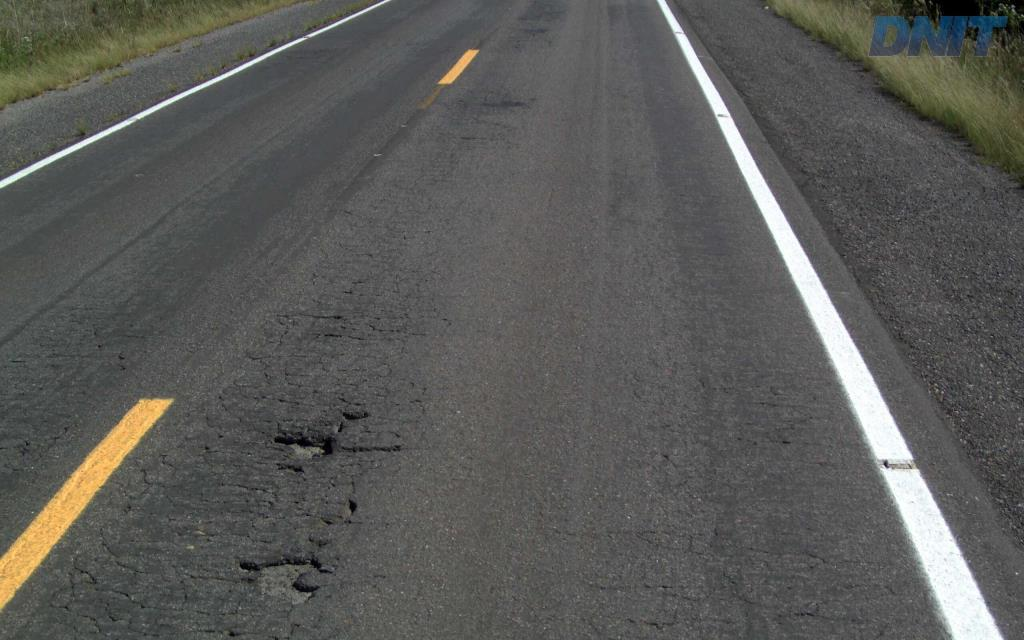crack: (240, 421, 276, 455)
pothole: (242, 546, 324, 608), (267, 423, 342, 459)
